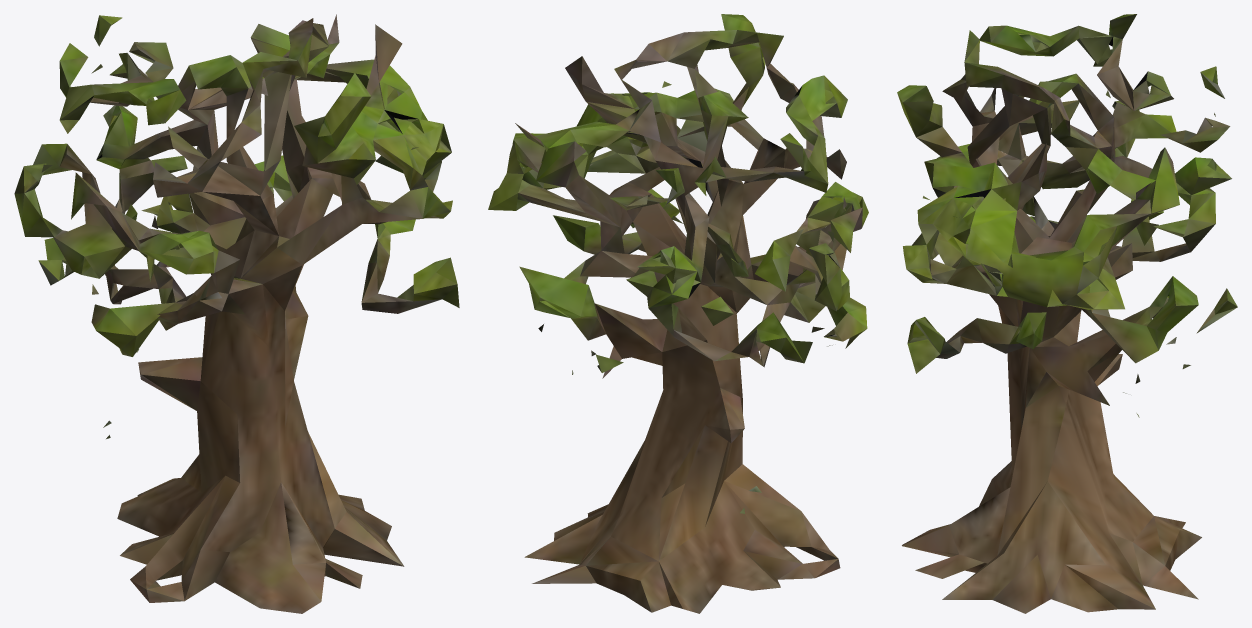
File: tree_old_sparse_lod1.glb
3 views of the same model, side by side, from view 1: azimuth 30°, elevation 25°; view 2: azimuth 150°, elevation 25°; view 3: azimuth 270°, elevation 25° (orthographic). The views are drawn at different scales.
Visible parts, largest first — view 1: tree_old_sparse_lod1; view 2: tree_old_sparse_lod1; view 3: tree_old_sparse_lod1.
Boxes of the visible parts, x1,y1,x2,y2 form: tree_old_sparse_lod1: [14, 14, 459, 613]; tree_old_sparse_lod1: [488, 14, 868, 613]; tree_old_sparse_lod1: [897, 14, 1237, 613].
Size of the model in its own units: 5.99 by 7.98 by 4.86.
Materials: 1 (1 with a texture image).
